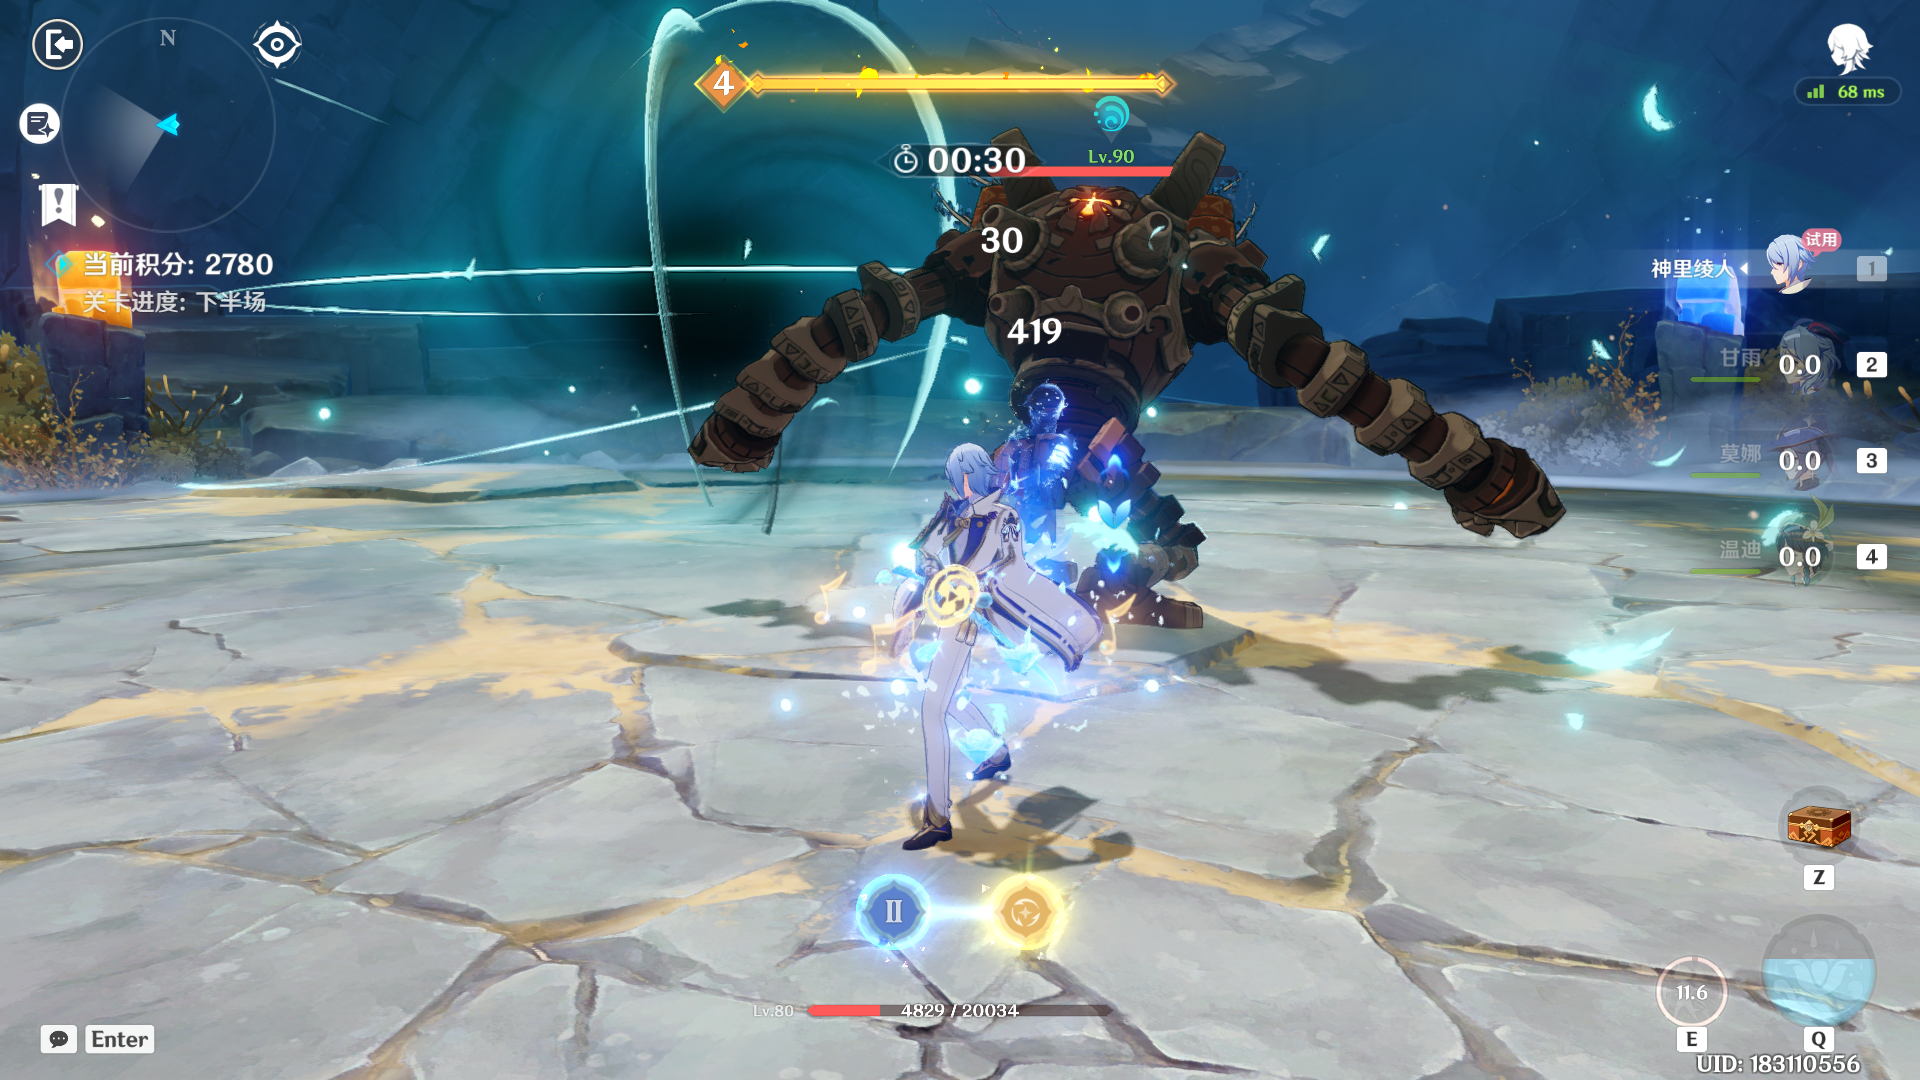character: (822, 407, 1102, 857)
